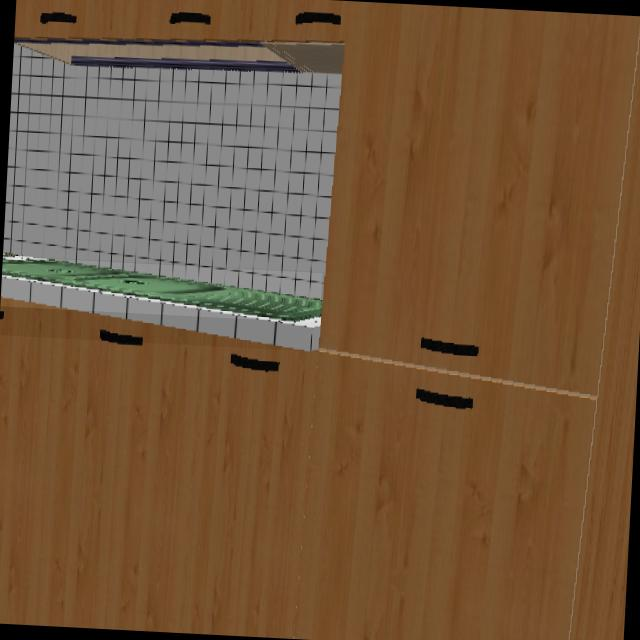cabinet: (0, 0, 640, 640)
countertop: (1, 255, 323, 351)
sink: (2, 257, 320, 321)
